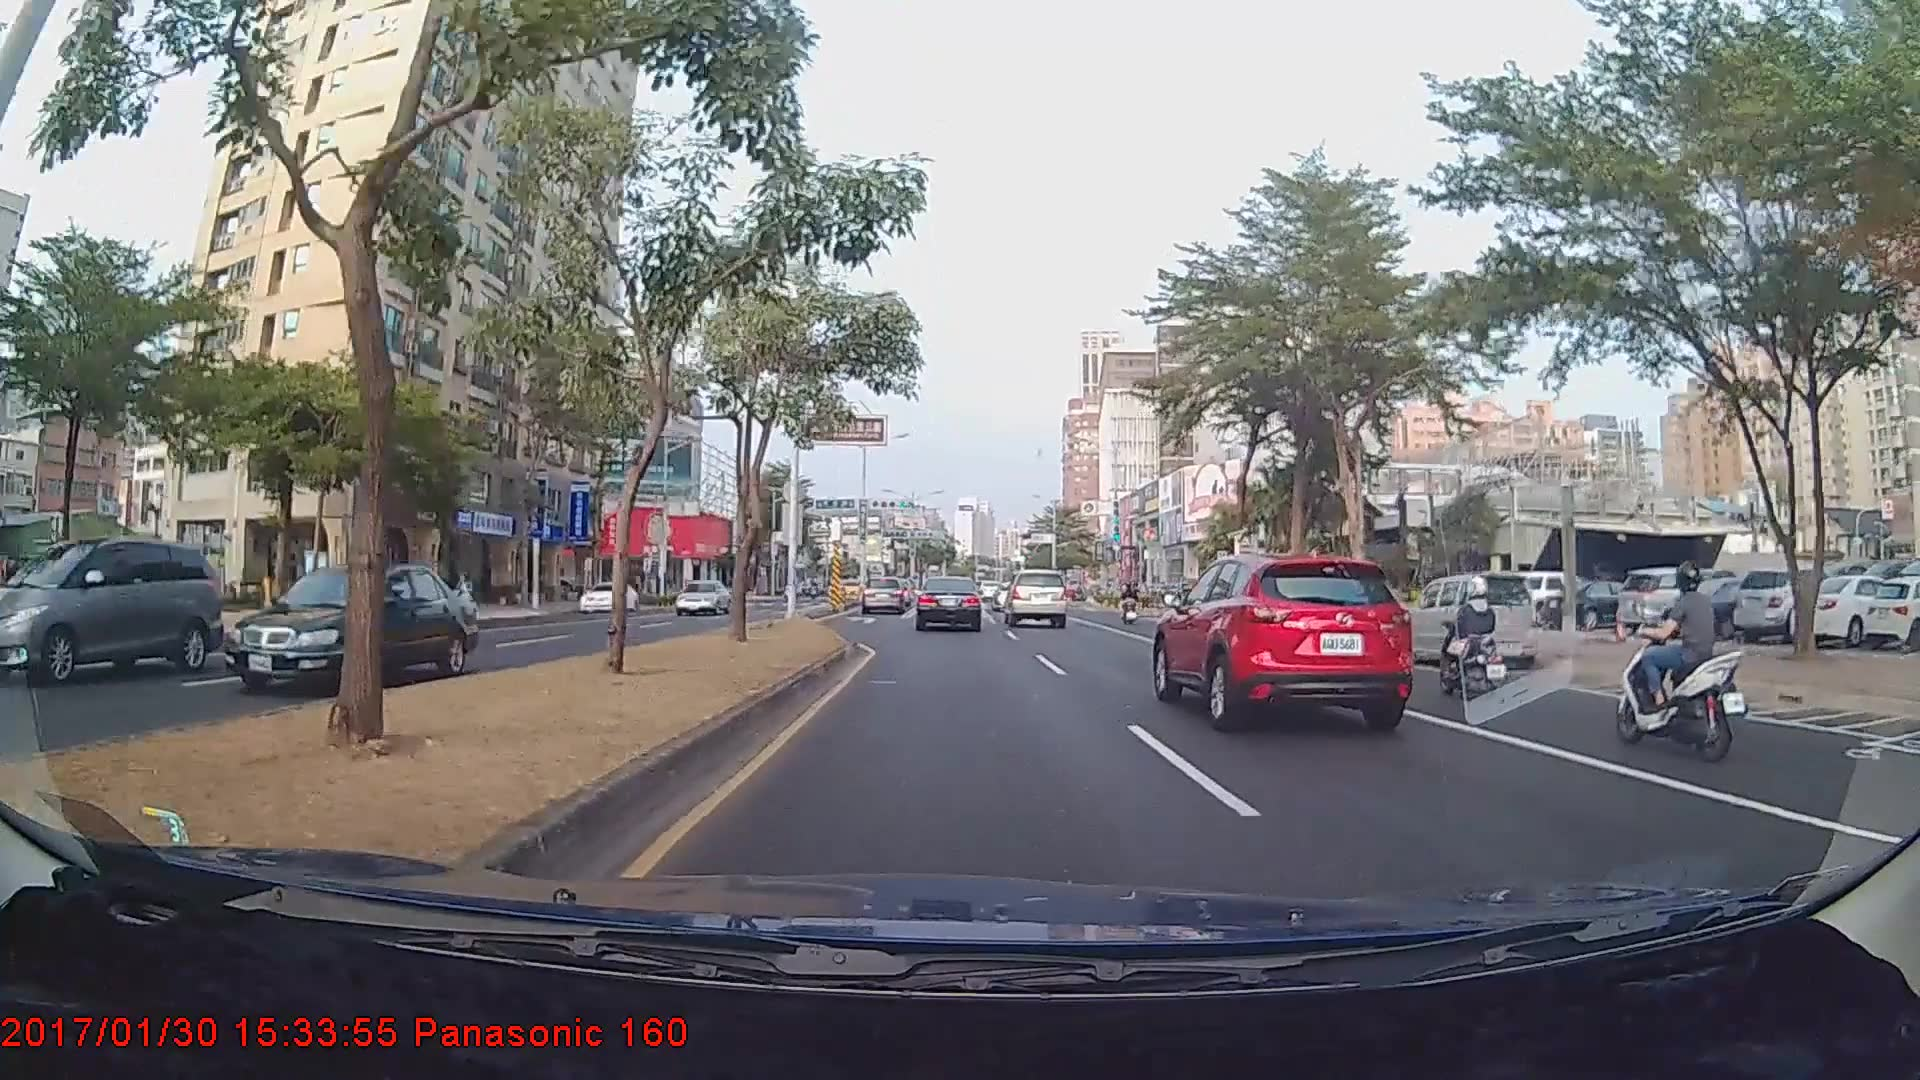rider: (1607, 555, 1755, 761), (1427, 573, 1523, 709), (1122, 587, 1147, 630)
vehicle: (1152, 548, 1412, 729), (223, 561, 480, 694), (0, 538, 224, 682), (1397, 572, 1539, 669), (1613, 567, 1740, 636), (1005, 567, 1068, 628), (915, 576, 983, 632), (578, 579, 636, 615), (674, 581, 732, 617), (860, 575, 909, 615)
